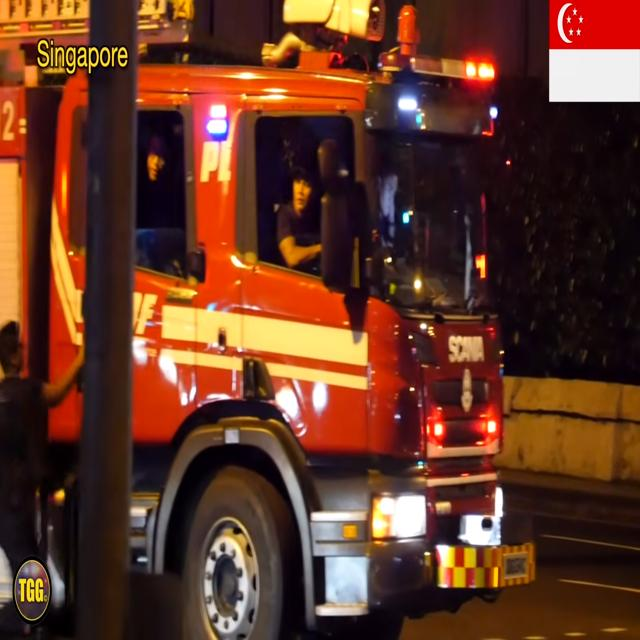emergency-vehicles: (0, 32, 547, 640)
